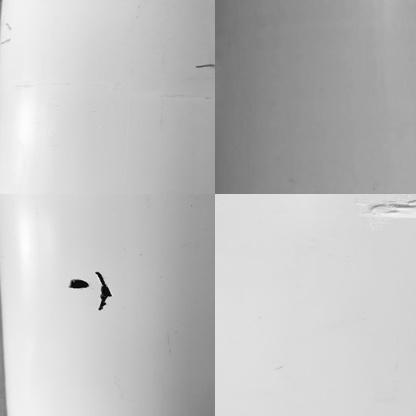fengxi: (91, 268, 113, 311), (192, 58, 219, 73)
kongdong: (67, 276, 88, 288)
sunshang: (364, 194, 416, 223)
